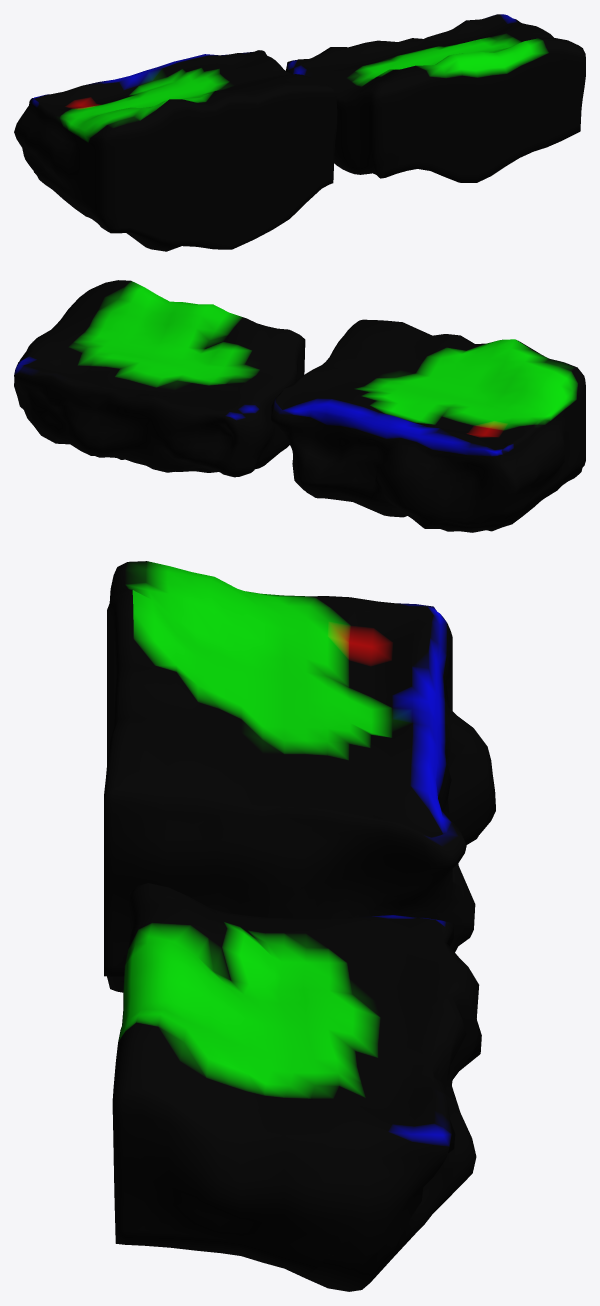
File: PlataformaTest 1.fbx
3 views of the same model, one above another, from view 1: azimuth 30°, elevation 25°; view 2: azimuth 150°, elevation 25°; view 3: azimuth 270°, elevation 25° (orthographic). The views are drawn at different scales.
Visible parts, largest first — view 1: Floor_4, Floor_3; view 2: Floor_4, Floor_3; view 3: Floor_3, Floor_4.
Boxes of the visible parts, x1,y1,x2,y2 form: Floor_4: [14, 50, 337, 251]; Floor_3: [286, 14, 585, 182]; Floor_4: [271, 319, 585, 532]; Floor_3: [14, 280, 305, 477]; Floor_3: [112, 883, 481, 1291]; Floor_4: [104, 561, 495, 992].
Bounding box in the file's own units: 69.49 × 21.07 × 22.71.
